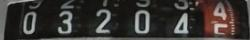digits: (213, 1, 231, 40), (133, 10, 150, 33), (95, 9, 111, 33), (57, 10, 72, 34), (172, 12, 189, 33), (22, 11, 36, 34)
